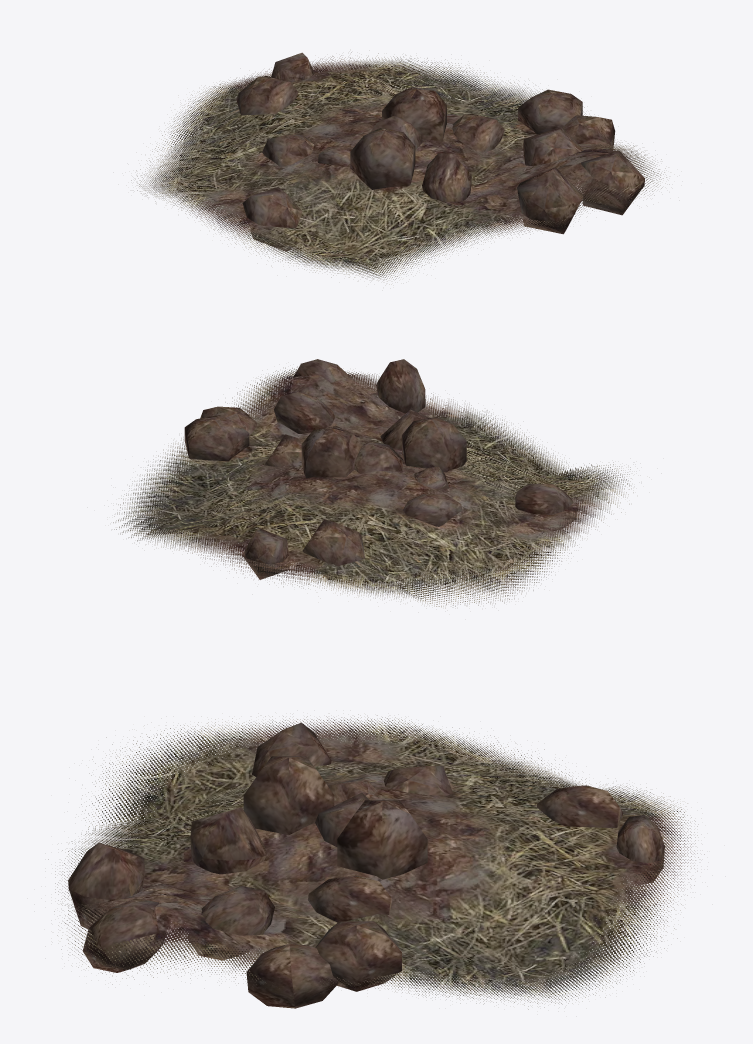
The model's file is Horse_Dung.glb.
3 renders of one model, top to bottom at view 1: azimuth 30°, elevation 25°; view 2: azimuth 150°, elevation 25°; view 3: azimuth 270°, elevation 25°, orthographic. The views are drawn at different scales.
Parts seen in each view (by area): view 1: SM_Horse_Dung; view 2: SM_Horse_Dung; view 3: SM_Horse_Dung.
Part boxes in pixels (bbox=[...]): SM_Horse_Dung: bbox=[131, 52, 669, 284]; SM_Horse_Dung: bbox=[113, 359, 633, 608]; SM_Horse_Dung: bbox=[48, 714, 704, 1009].
Size of the model in its own units: 1.58 by 0.2988 by 1.58.
1 material, 1 textured.
